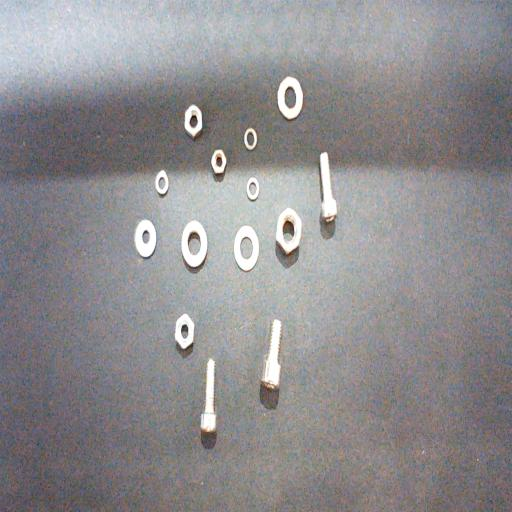nut: (274, 207, 302, 257), (174, 313, 194, 352), (183, 104, 203, 142), (210, 148, 227, 176)
screw: (260, 319, 282, 392), (318, 151, 338, 225), (200, 358, 217, 434)
washer: (181, 218, 207, 269), (233, 224, 260, 272), (277, 75, 303, 121), (134, 217, 156, 258), (155, 168, 169, 196), (244, 127, 258, 152), (246, 176, 259, 202)
